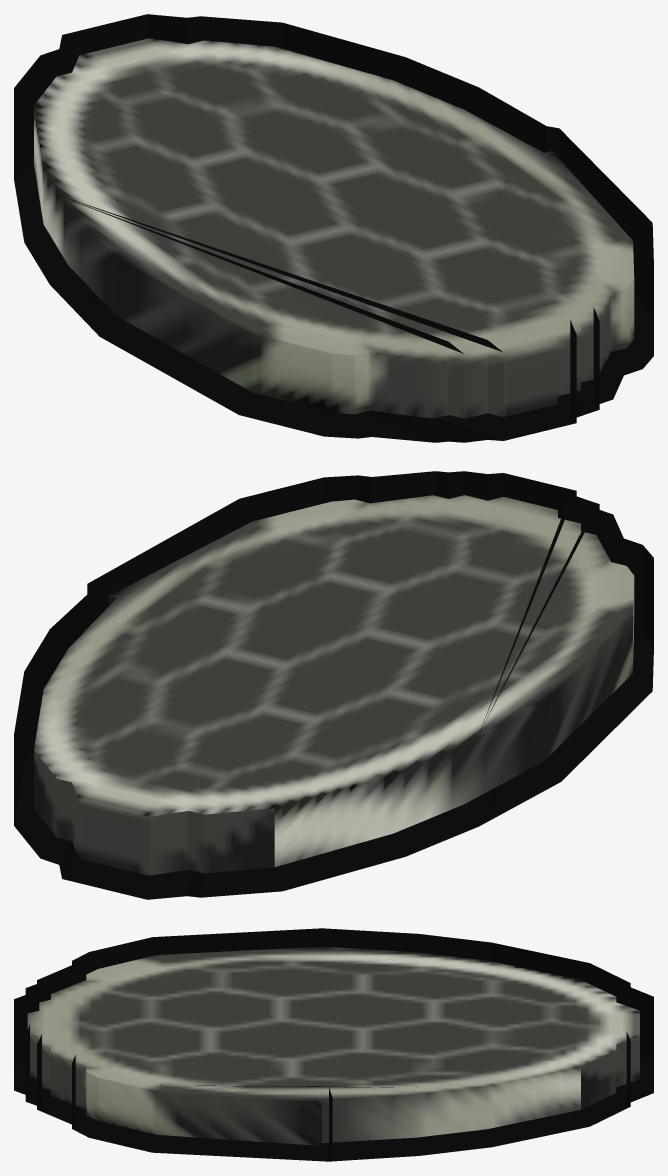
The model's file is Building_ActivatorProximity_Things_Building_Mech_ActivatorProximity.glb.
The picture shows the model from 3 angles, top to bottom: view 1: azimuth 30°, elevation 25°; view 2: azimuth 150°, elevation 25°; view 3: azimuth 270°, elevation 25°; orthographic projection. The views are drawn at different scales.
Visible parts, largest first — view 1: Body, Outline; view 2: Body, Outline; view 3: Body, Outline.
Part boxes in pixels (<box>): Body: <box>34,38,634,418</box>; Outline: <box>14,14,653,442</box>; Body: <box>34,495,634,875</box>; Outline: <box>14,471,653,899</box>; Body: <box>27,946,639,1145</box>; Outline: <box>14,928,653,1161</box>.
Size of the model in its own units: 0.9387 by 0.1964 by 1.52.
2 materials, 1 textured.
